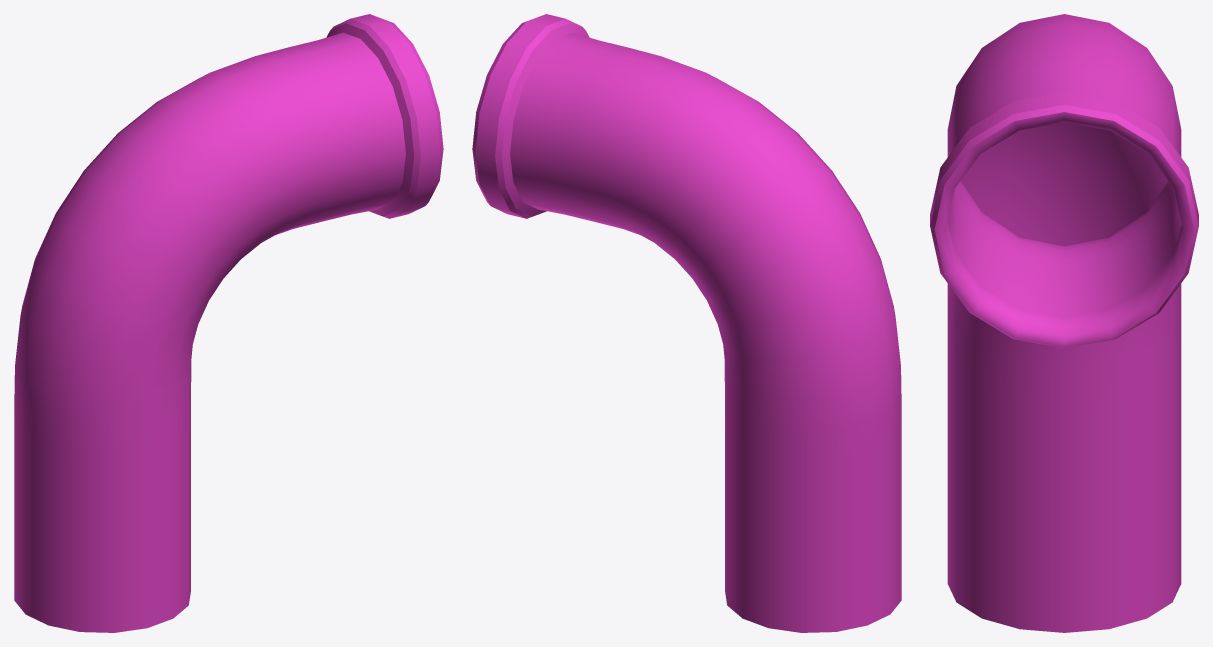
File: SM_Pipe_Bend.fbx
3 renders of one model, left to right at view 1: azimuth 30°, elevation 25°; view 2: azimuth 150°, elevation 25°; view 3: azimuth 270°, elevation 25°, orthographic. The views are drawn at different scales.
Visible parts, largest first — view 1: Bend; view 2: Bend; view 3: Bend.
Boxes of the visible parts, left/top/right/bottom form: Bend: left=14, top=14, right=443, bottom=632; Bend: left=472, top=14, right=901, bottom=632; Bend: left=930, top=14, right=1198, bottom=632.
Bounding box in the file's own units: 61.95 × 80.97 × 29.79.
